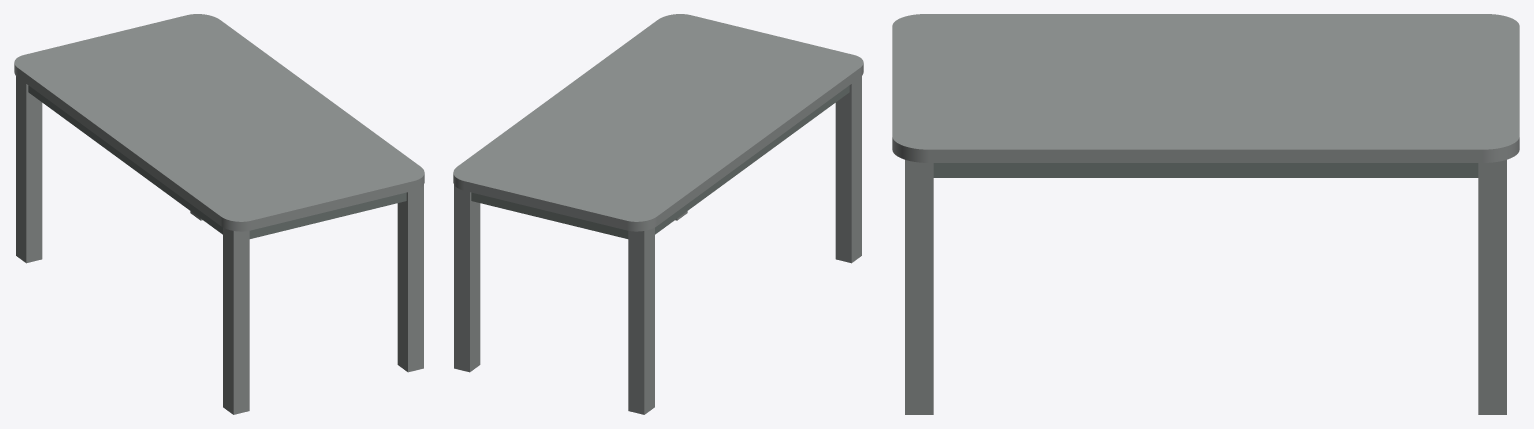
Rendered from Escritorio.obj.
The picture shows the model from 3 angles, left to right: view 1: azimuth 30°, elevation 25°; view 2: azimuth 150°, elevation 25°; view 3: azimuth 270°, elevation 25°; orthographic projection. The views are drawn at different scales.
Visible parts, largest first — view 1: Escritorio:deskWorn; view 2: Escritorio:deskWorn; view 3: Escritorio:deskWorn.
Boxes of the visible parts, box(x1,y1,x2,y2) form: Escritorio:deskWorn: box(14, 14, 424, 414); Escritorio:deskWorn: box(453, 14, 863, 414); Escritorio:deskWorn: box(892, 14, 1519, 414).
Size of the model in its own units: 2.82 by 2.6 by 5.5.
Materials: 2 (2 with a texture image).
